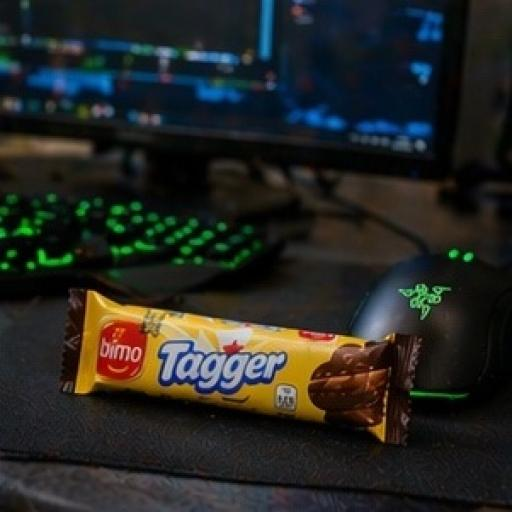tagger: (49, 215, 430, 469)
